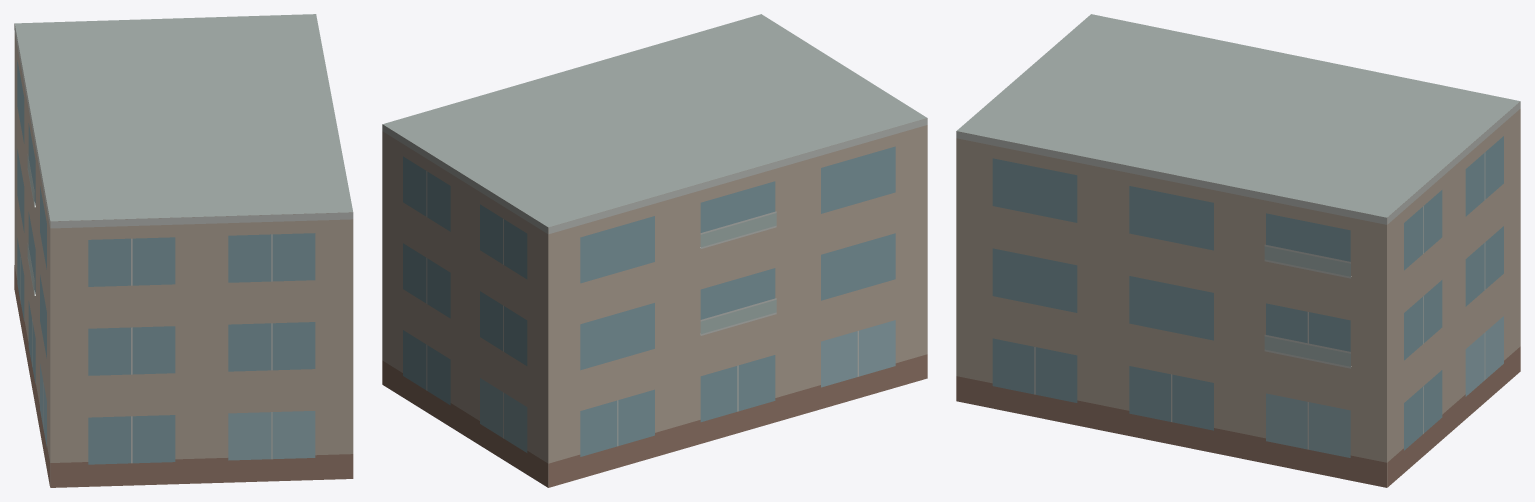
The model's file is survey-upis-33000472.glb.
3 renders of one model, left to right at view 1: azimuth 30°, elevation 25°; view 2: azimuth 150°, elevation 25°; view 3: azimuth 270°, elevation 25°, orthographic. The views are drawn at different scales.
Parts seen in each view (by area): view 1: survey-upis-33000472.tmp; view 2: survey-upis-33000472.tmp; view 3: survey-upis-33000472.tmp.
Boxes of the visible parts, box(x1,y1,x2,y2) form: survey-upis-33000472.tmp: box(14, 14, 353, 487); survey-upis-33000472.tmp: box(382, 14, 927, 487); survey-upis-33000472.tmp: box(956, 14, 1520, 487).
Bounding box in the file's own units: 14.81 × 9.15 × 17.33.
